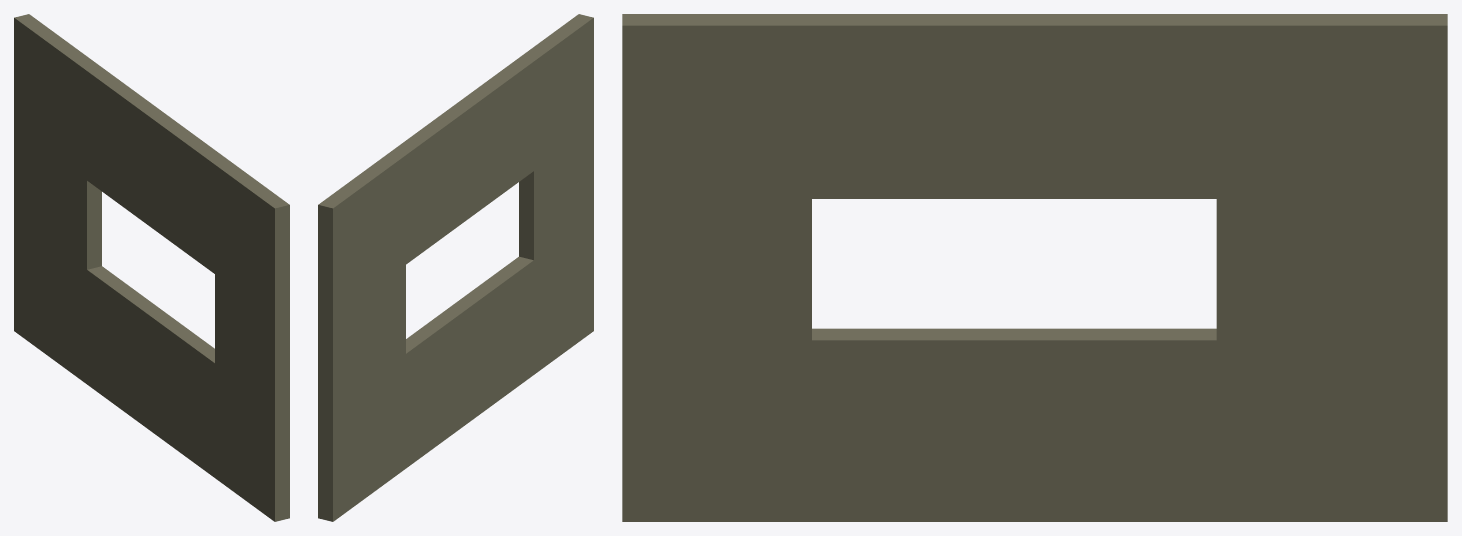
The model's file is wallWindow1.fbx.
3 views of the same model, side by side, from view 1: azimuth 30°, elevation 25°; view 2: azimuth 150°, elevation 25°; view 3: azimuth 270°, elevation 25° (orthographic). The views are drawn at different scales.
Visible parts, largest first — view 1: wallWindow1; view 2: wallWindow1; view 3: wallWindow1.
Boxes of the visible parts, x1,y1,x2,y2 form: wallWindow1: (14,14,289,521); wallWindow1: (318,14,593,521); wallWindow1: (622,14,1447,521).
Size of the model in its own units: 6 by 120 by 181.
